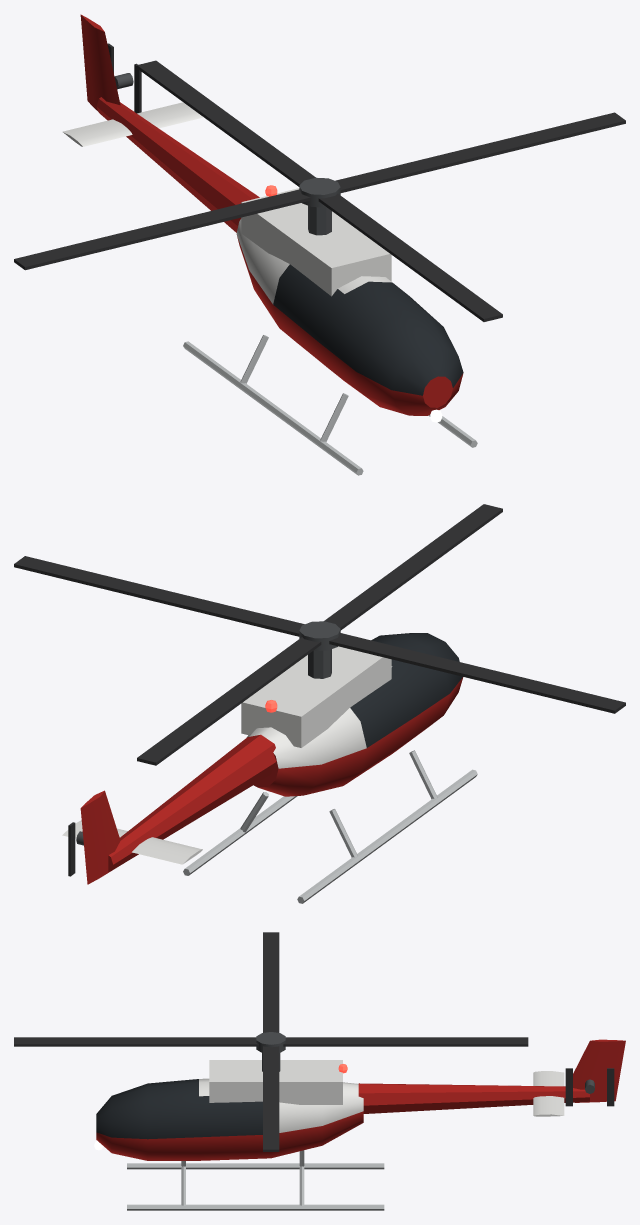
The model's file is helicopter.glb.
3 views of the same model, one above another, from view 1: azimuth 30°, elevation 25°; view 2: azimuth 150°, elevation 25°; view 3: azimuth 270°, elevation 25° (orthographic). The views are drawn at different scales.
Visible parts, largest first — view 1: helicopter, Rotor, RotorTail; view 2: helicopter, Rotor; view 3: helicopter, Rotor, RotorTail.
Boxes of the visible parts, x1,y1,x2,y2 form: helicopter: (62,14,477,475); Rotor: (14,60,625,321); RotorTail: (107,43,141,113); helicopter: (62,633,477,903); Rotor: (14,504,625,765); helicopter: (94,1039,625,1210); Rotor: (14,932,528,1151); RotorTail: (565,1068,614,1106).
Bounding box in the file's own units: 0.5 × 0.1621 × 0.595.
